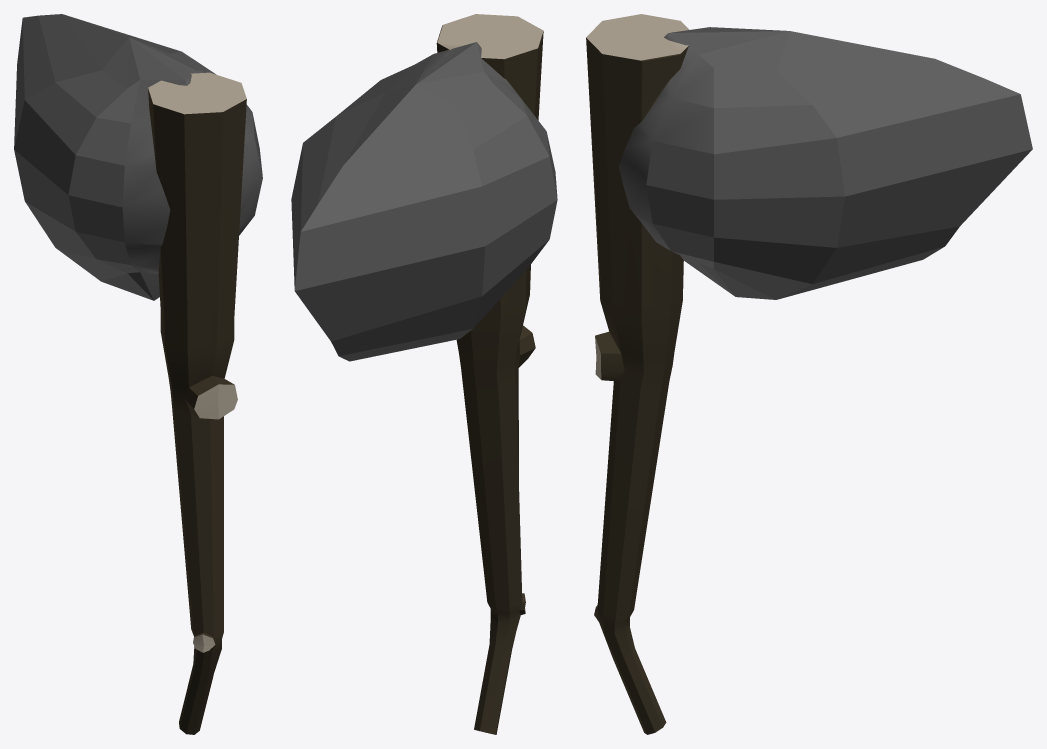
Rendered from ShittyAxe.fbx.
3 renders of one model, left to right at view 1: azimuth 30°, elevation 25°; view 2: azimuth 150°, elevation 25°; view 3: azimuth 270°, elevation 25°, orthographic. The views are drawn at different scales.
Visible parts, largest first — view 1: pCylinder2; view 2: pCylinder2; view 3: pCylinder2.
Part boxes in pixels (<box>): pCylinder2: <box>14,14,262,734</box>; pCylinder2: <box>291,14,557,734</box>; pCylinder2: <box>586,14,1032,734</box>.
Bounding box in the file's own units: 1.51 × 4.89 × 2.82.
